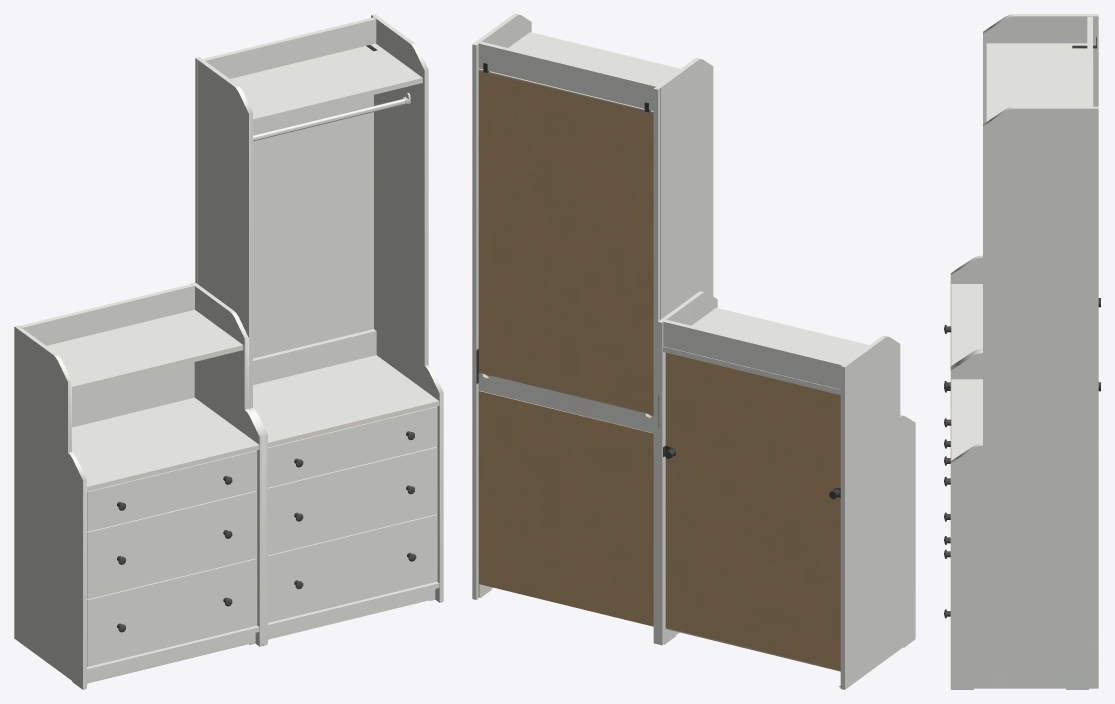
Rendered from 26 - HAUGA - 收納組合, 白色, 140x199 公分 IKEA 線上購物.glb.
3 renders of one model, left to right at view 1: azimuth 30°, elevation 25°; view 2: azimuth 150°, elevation 25°; view 3: azimuth 270°, elevation 25°, orthographic. The views are drawn at different scales.
Visible parts, largest first — view 1: nodes_0; view 2: nodes_0; view 3: nodes_0.
Boxes of the visible parts, left/top/right/bottom form: nodes_0: left=14, top=14, right=443, bottom=689; nodes_0: left=472, top=14, right=915, bottom=689; nodes_0: left=944, top=14, right=1100, bottom=689.
Size of the model in its own units: 1.4 by 1.99 by 0.4871.
Materials: 1 (1 with a texture image).
